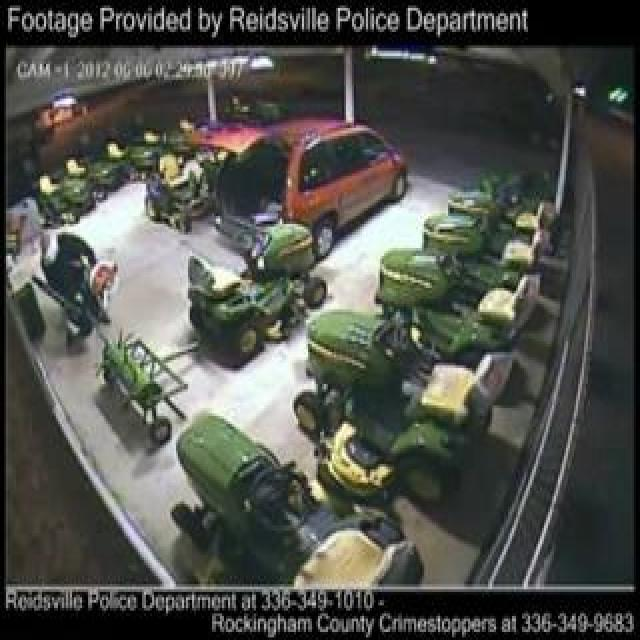thief: (28, 194, 125, 365)
